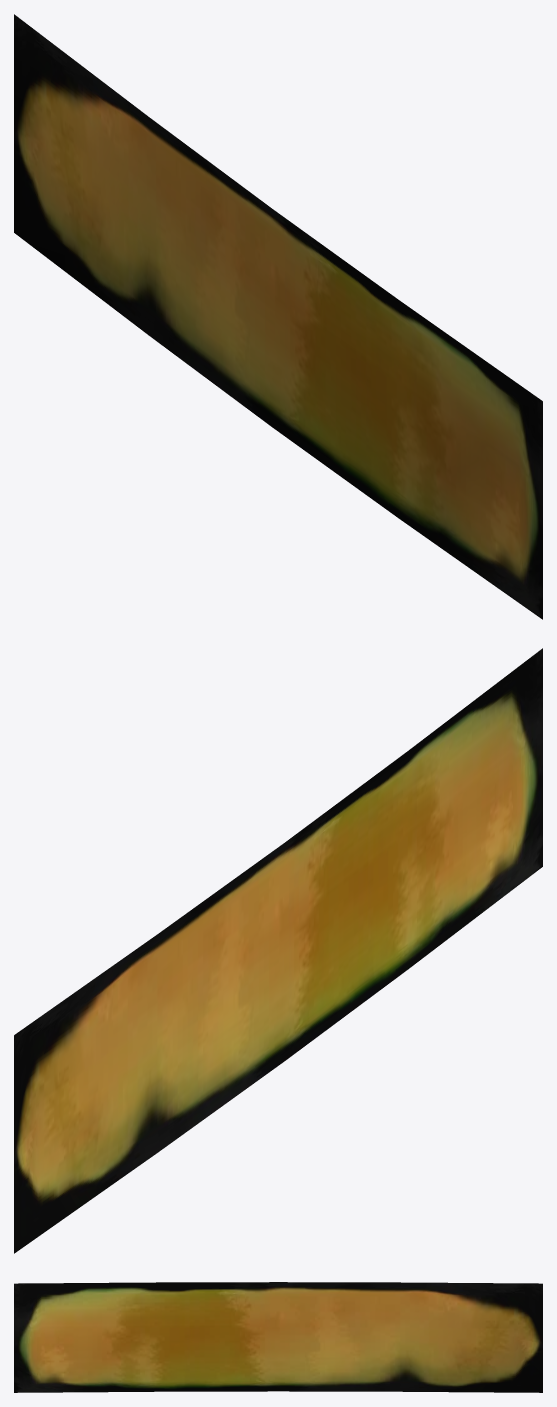
File: cloud04.glb
The picture shows the model from 3 angles, top to bottom: view 1: azimuth 30°, elevation 25°; view 2: azimuth 150°, elevation 25°; view 3: azimuth 270°, elevation 25°; orthographic projection. The views are drawn at different scales.
Visible parts, largest first — view 1: Cloud04; view 2: Cloud04; view 3: Cloud04.
Part boxes in pixels (x1,y1,x2,y2): Cloud04: [14, 14, 542, 619]; Cloud04: [14, 648, 542, 1253]; Cloud04: [14, 1282, 542, 1392].
Size of the model in its own units: 0.0562 by 1.27 by 5.55.
Materials: 1 (1 with a texture image).
